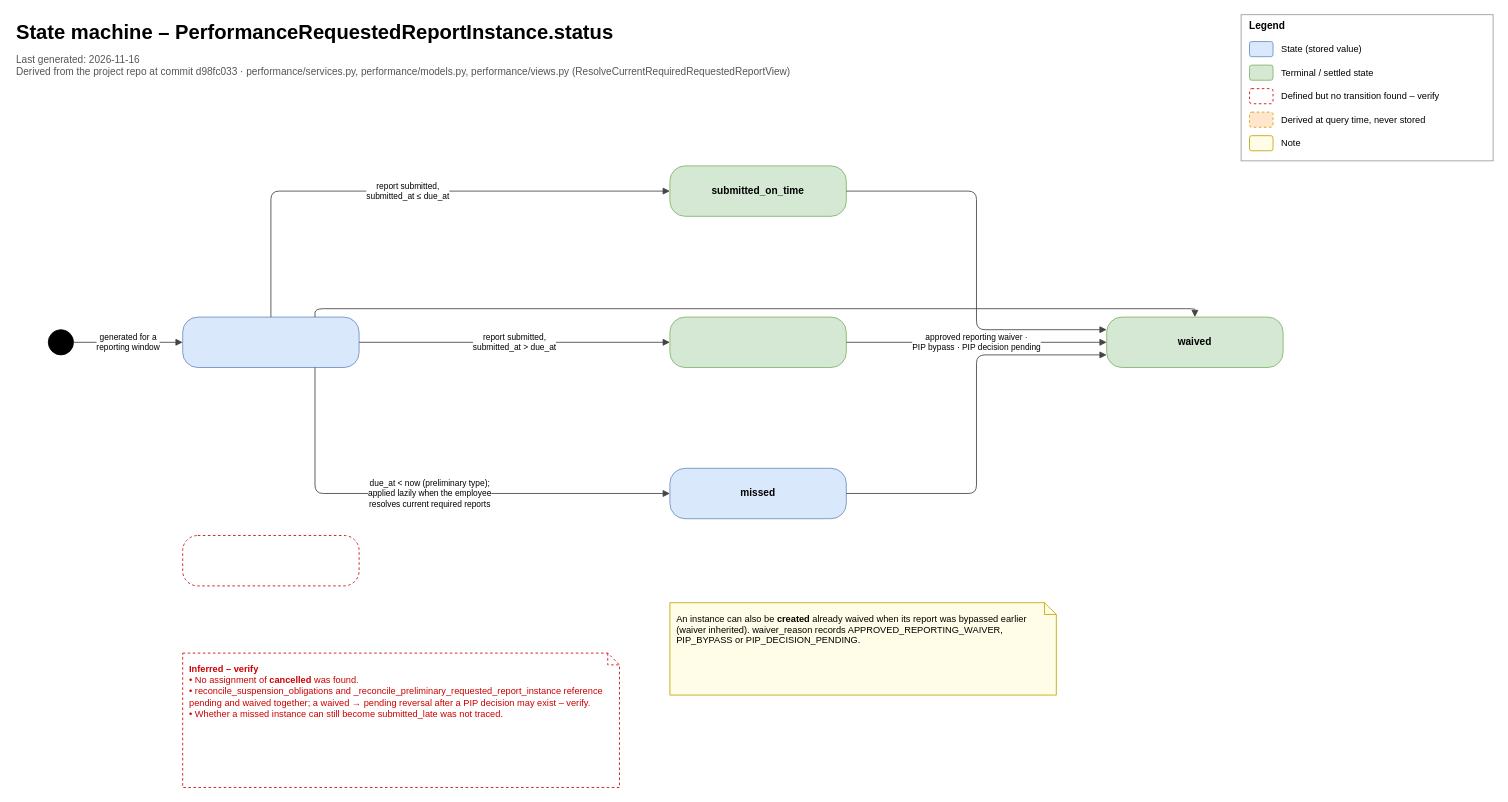
The diagram is 1508 pixels wide and 802 high, and some of its shapes have lost their labels. Here are the shapes that lost their labels. From the top down, the centre of each, then its label:
At (x=270, y=342): "pending".
At (x=757, y=342): "submitted_late".
At (x=270, y=560): "cancelled".
